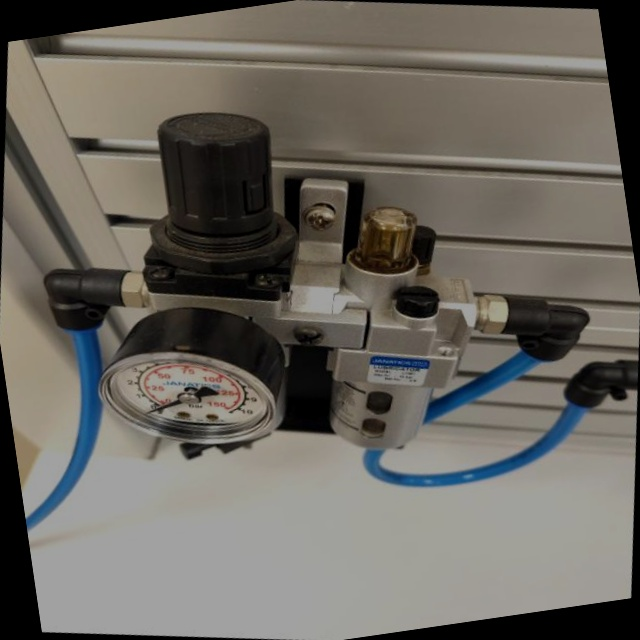FRL unit: (0, 32, 569, 560)
